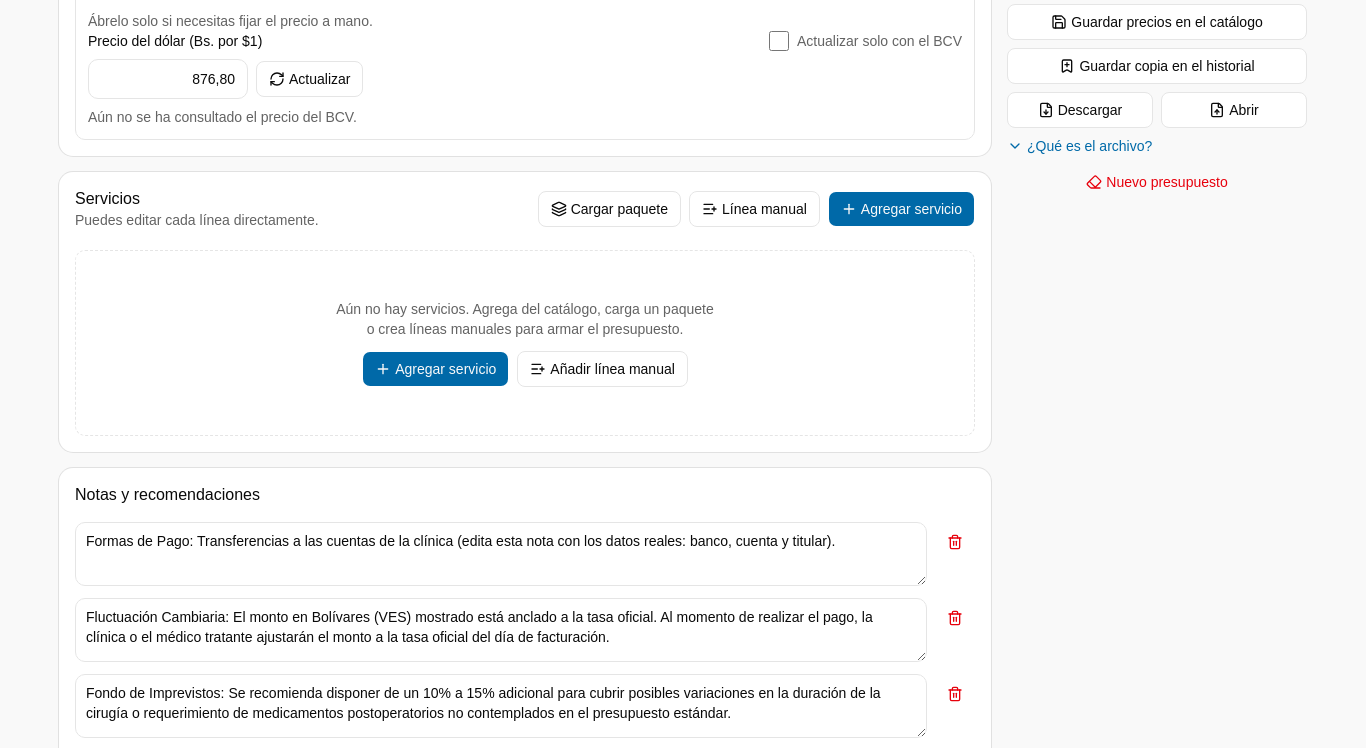
Test: App · interacciones › reagrupa la línea al cambiar su categoría
This screenshot has width=1366, height=748.
(page scrolled)
Click the button "Añadir línea manual": (603, 368) [517,350,688,386]
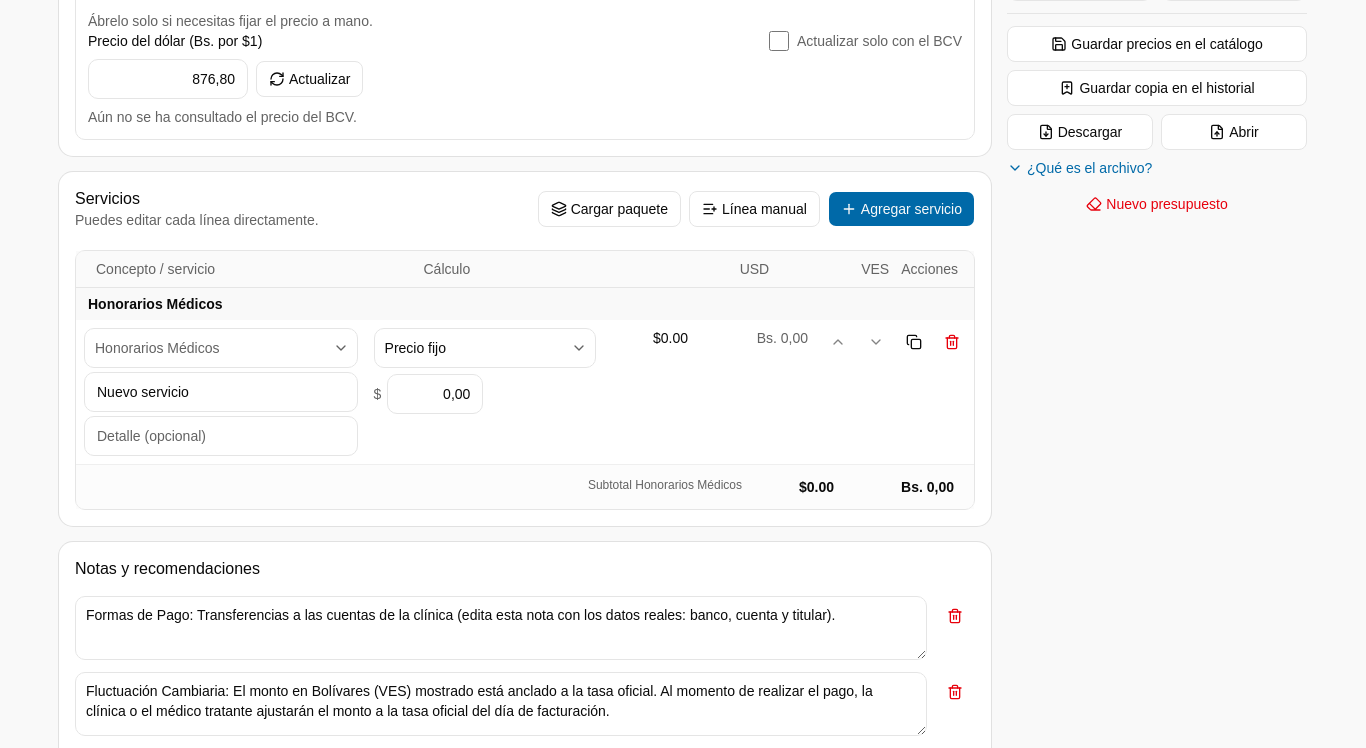
Click the dropdown named "Categoría": (221, 348) [84,328,358,368]
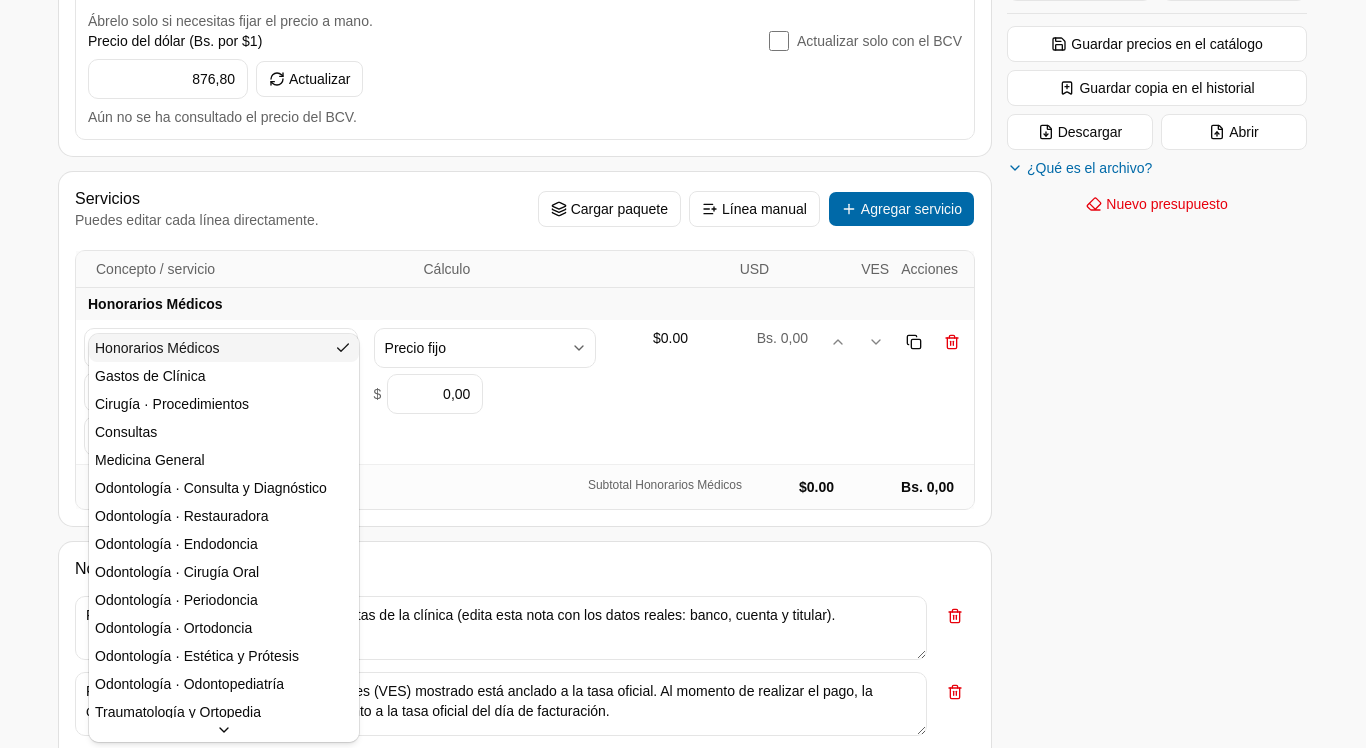
Click the option "Gastos de Clínica": (150, 376) [95,368,206,384]
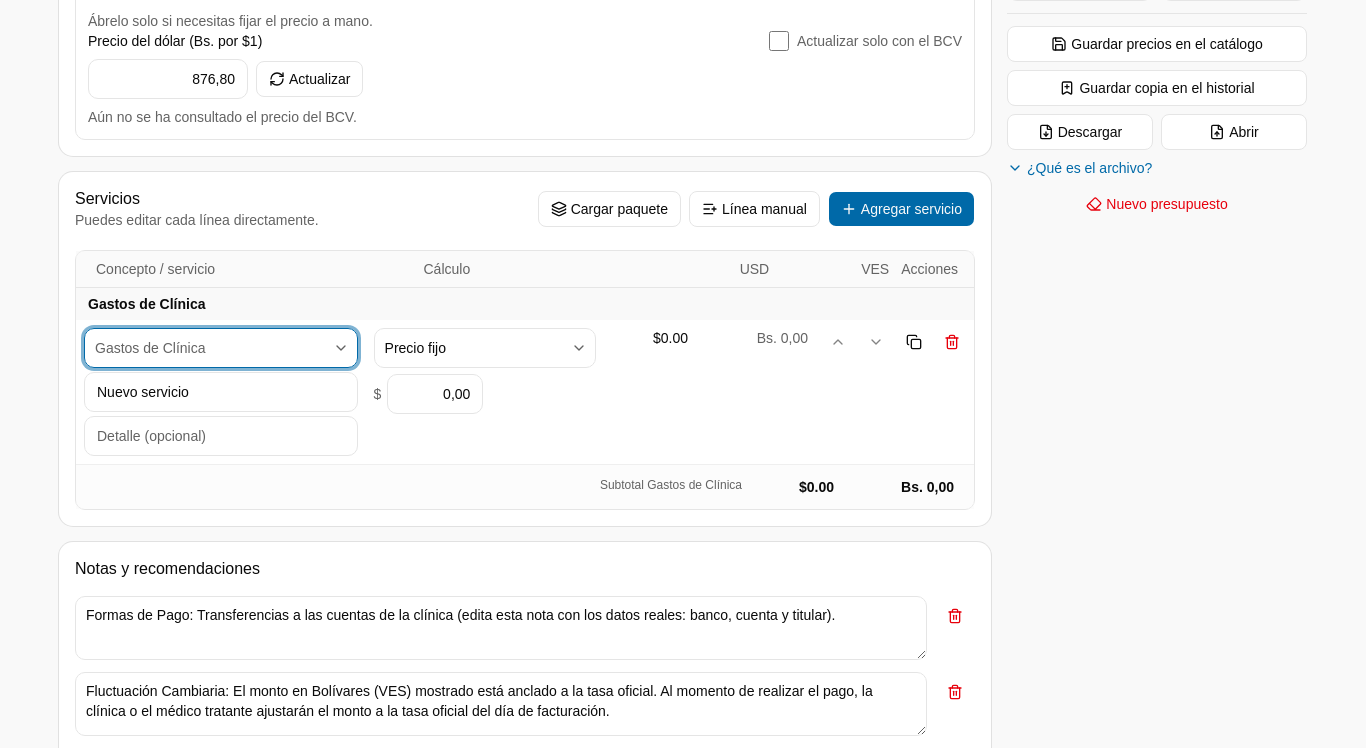
expect the 1st text "Gastos de Clínica" is shown: met, box [88,296,206,312]
expect the text "Honorarios Médicos" is gone: met
